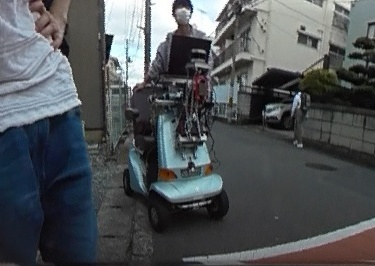person: (152, 0, 211, 97), (292, 80, 308, 147)
